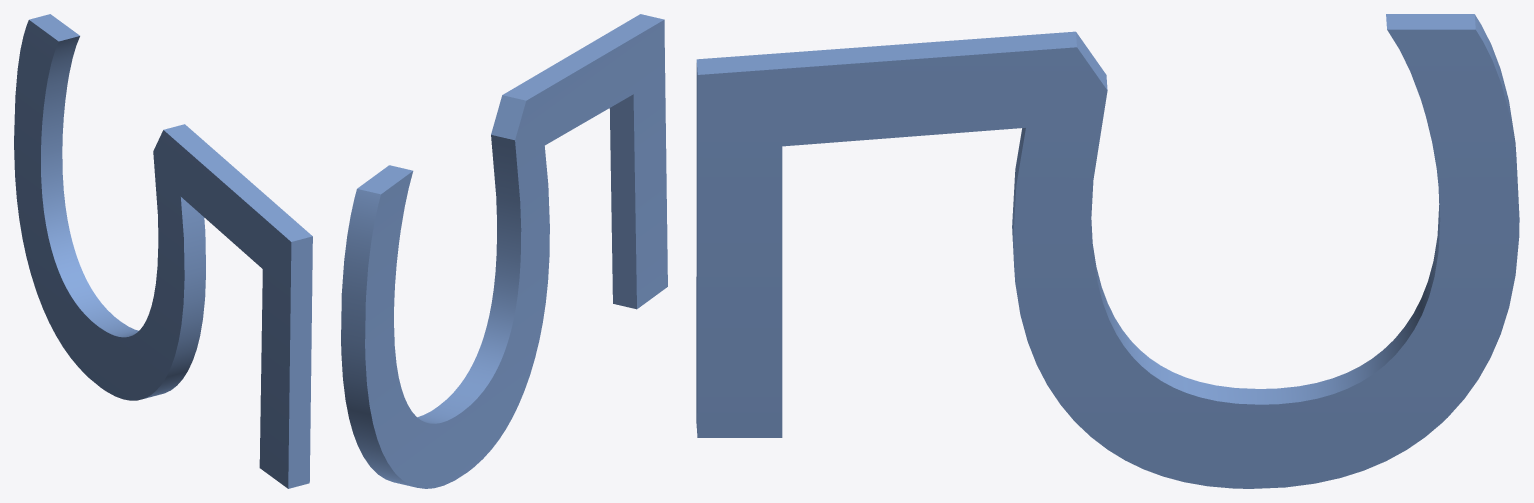
File: New_Number_5.gltf
The picture shows the model from 3 angles, left to right: view 1: azimuth 30°, elevation 25°; view 2: azimuth 150°, elevation 25°; view 3: azimuth 270°, elevation 25°; orthographic projection. The views are drawn at different scales.
Visible parts, largest first — view 1: Part 266; view 2: Part 266; view 3: Part 266.
Boxes of the visible parts, left/top/right/bottom form: Part 266: left=14, top=14, right=312, bottom=488; Part 266: left=341, top=14, right=667, bottom=488; Part 266: left=696, top=14, right=1519, bottom=488.
Size of the model in its own units: 0.000304 by 0.00346 by 0.00558.
